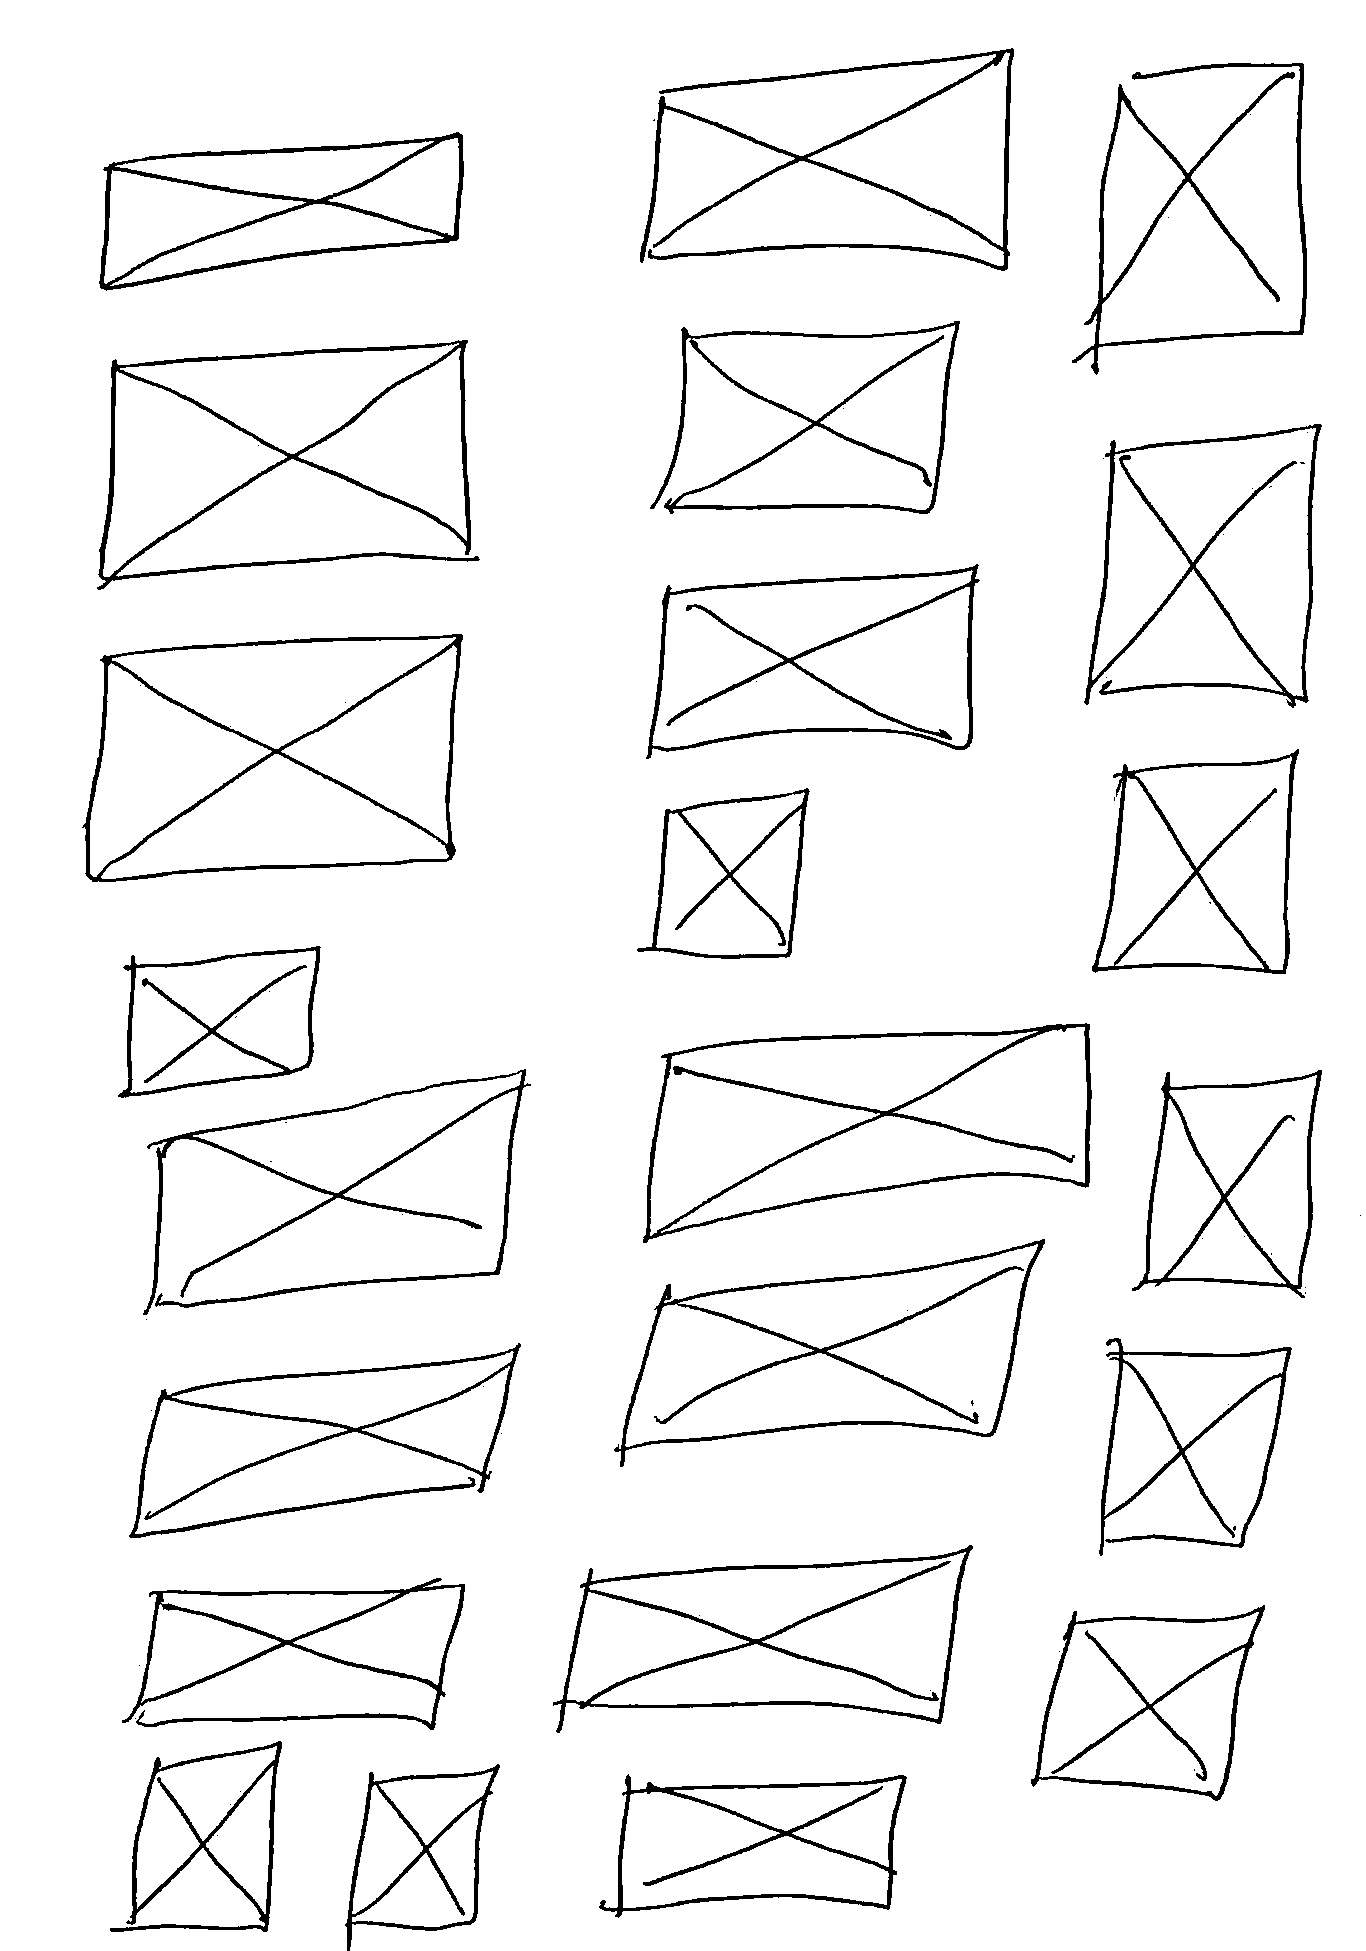Image: (639, 1018, 1096, 1247), (613, 1230, 1052, 1468), (82, 627, 467, 887), (93, 337, 476, 589), (636, 44, 1022, 274), (139, 1090, 527, 1314), (126, 1342, 522, 1543), (556, 1540, 974, 1729), (1081, 56, 1317, 368), (1078, 420, 1324, 706), (642, 563, 980, 759), (647, 317, 964, 517), (96, 127, 469, 297), (122, 1576, 469, 1732), (1087, 747, 1301, 977), (1023, 1606, 1270, 1801), (607, 1769, 911, 1917), (1095, 1334, 1296, 1554), (1136, 1070, 1324, 1297), (111, 1739, 286, 1936), (119, 941, 323, 1102), (639, 787, 814, 961), (341, 1761, 501, 1936)
